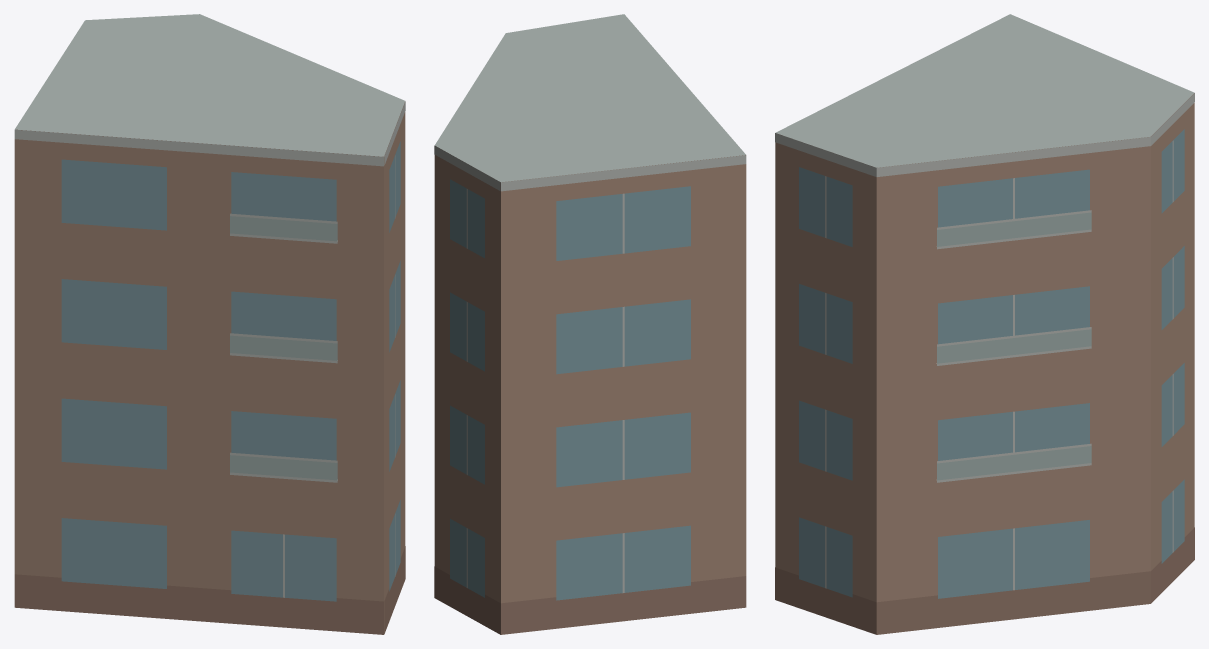
Rendered from survey-upis-32914384.glb.
3 views of the same model, side by side, from view 1: azimuth 30°, elevation 25°; view 2: azimuth 150°, elevation 25°; view 3: azimuth 270°, elevation 25° (orthographic). The views are drawn at different scales.
Parts seen in each view (by area): view 1: survey-upis-32914384.tmp; view 2: survey-upis-32914384.tmp; view 3: survey-upis-32914384.tmp.
Boxes of the visible parts, bbox=[...] form: survey-upis-32914384.tmp: bbox=[14, 14, 405, 634]; survey-upis-32914384.tmp: bbox=[434, 14, 746, 634]; survey-upis-32914384.tmp: bbox=[775, 14, 1194, 634].
Size of the model in its own units: 8.55 by 12.1 by 9.86.
